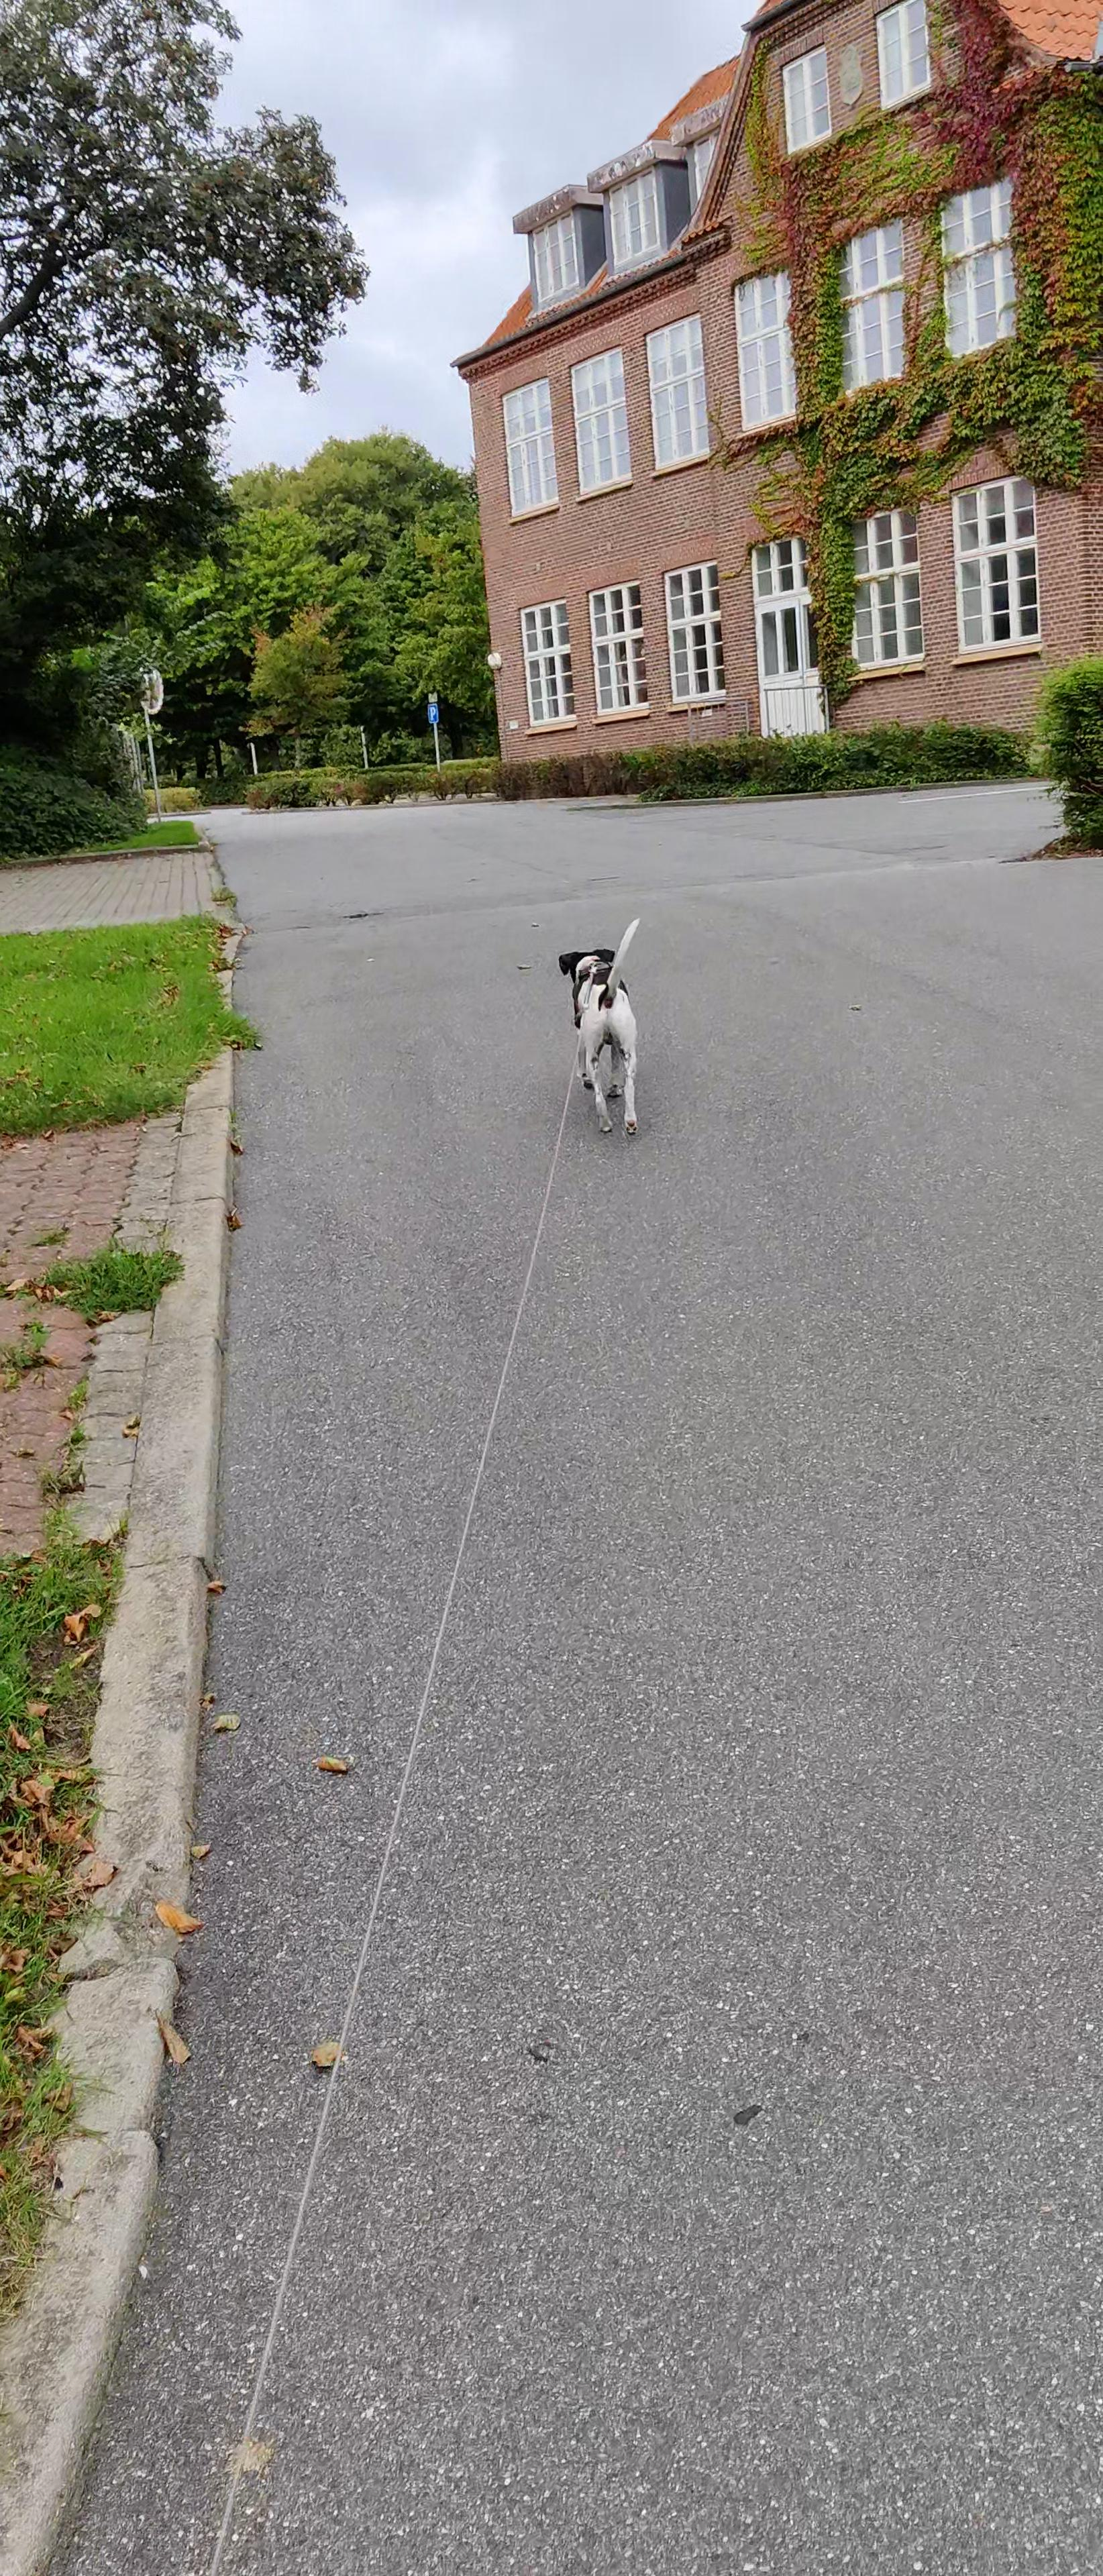Dog: (544, 904, 661, 1160)
